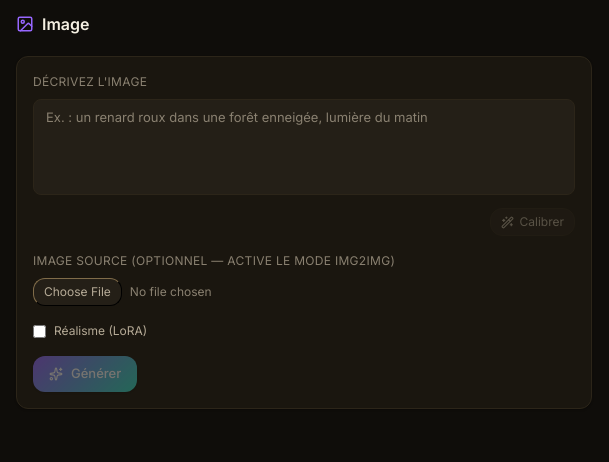
Scenario: module image › affiche le message d'erreur renvoyé par le backend (502 ComfyUI)
Replace the text in the text box with placeholder "renard roux" with "un chat": (304, 147) x1=33 y1=99 x2=575 y2=195
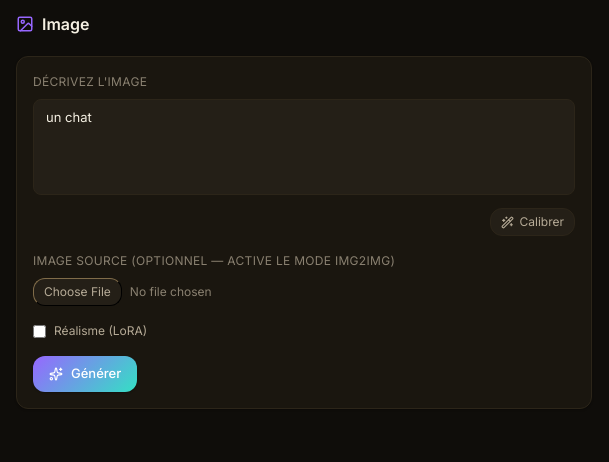
Click the button "Générer": (85, 374) x1=33 y1=356 x2=137 y2=392
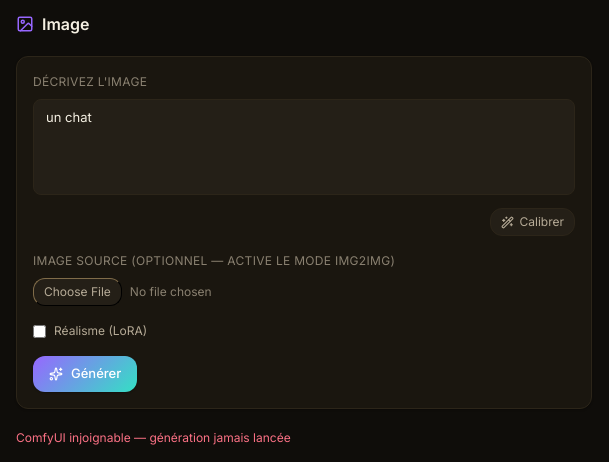
Expected: the text "ComfyUI injoignable — génération jamais lancée" is shown, x1=16 y1=430 x2=291 y2=444
